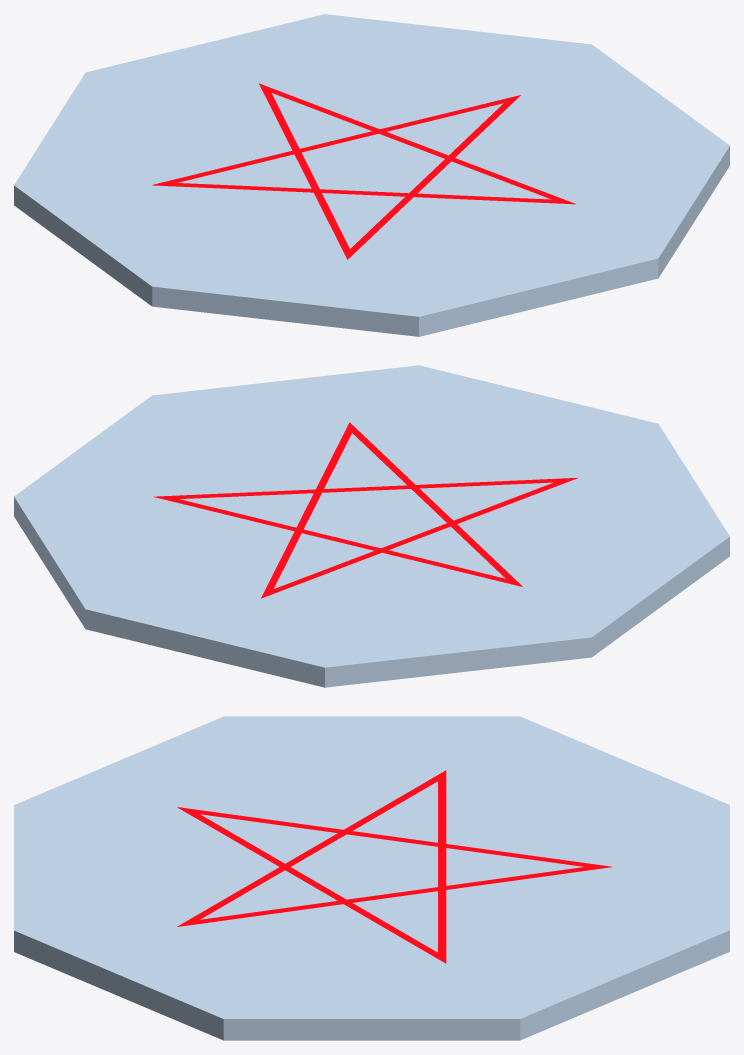
Rendered from evil_bottom.fbx.
The picture shows the model from 3 angles, top to bottom: view 1: azimuth 30°, elevation 25°; view 2: azimuth 150°, elevation 25°; view 3: azimuth 270°, elevation 25°; orthographic projection. The views are drawn at different scales.
Visible parts, largest first — view 1: Cylinder, pentagram; view 2: Cylinder, pentagram; view 3: Cylinder, pentagram.
Part boxes in pixels (x1,y1,x2,y2): Cylinder: (14, 14, 729, 336); pentagram: (152, 83, 575, 259); Cylinder: (14, 365, 729, 687); pentagram: (154, 422, 577, 598); Cylinder: (14, 716, 729, 1040); pentagram: (177, 770, 612, 963).
Bounding box in the file's own units: 514 × 17.45 × 514.
